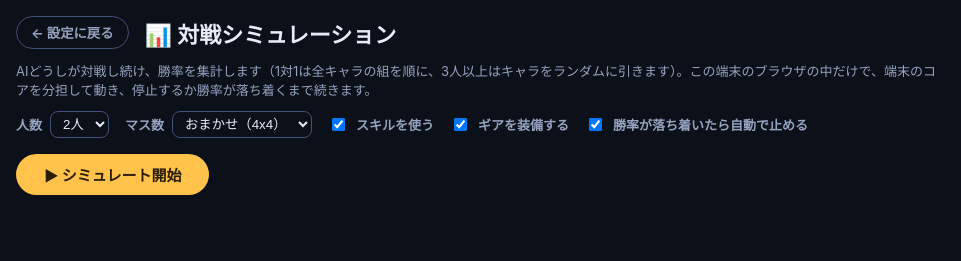
SimPanel › live.js の読み込みに失敗したらエラーを表示する
What coordinates should you click on to do the following:
click the button "▶ シミュレート開始"
I would click on:
 (113, 174)
Its box is [16, 154, 210, 195].
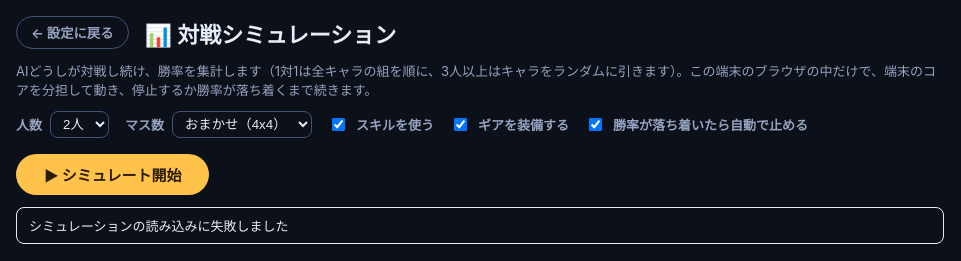
Check: the text "シミュレーションの読み込みに失敗しました" is shown, box [16, 207, 944, 244]
